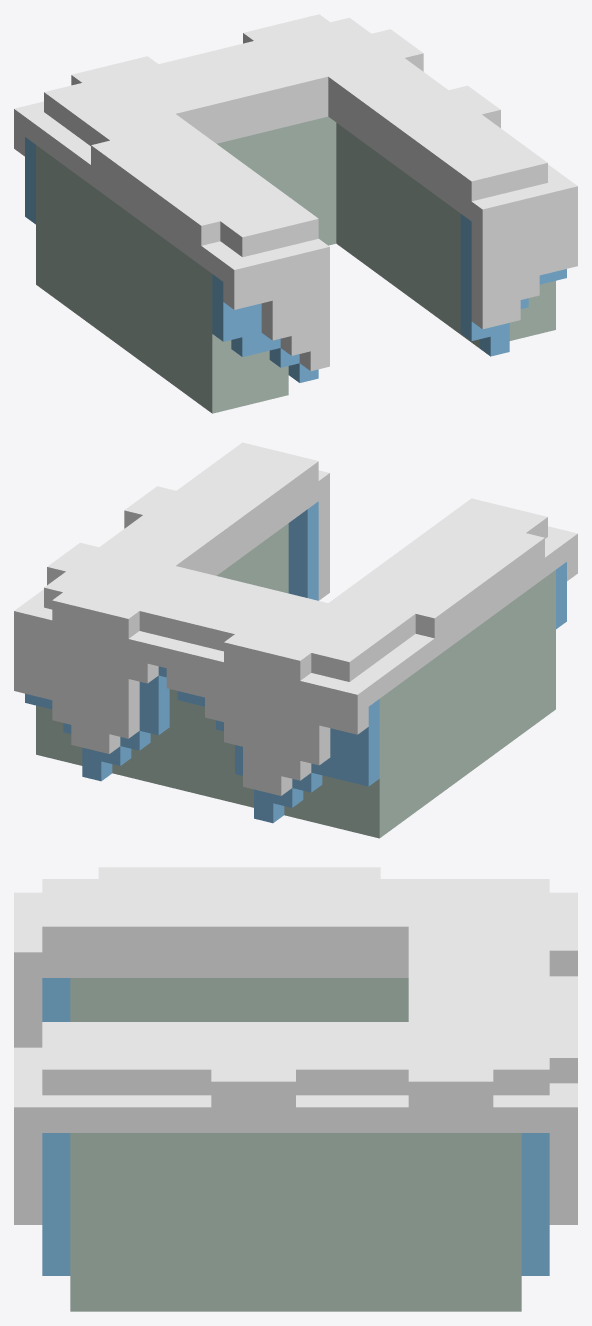
File: Floors-7.obj
3 views of the same model, one above another, from view 1: azimuth 30°, elevation 25°; view 2: azimuth 150°, elevation 25°; view 3: azimuth 270°, elevation 25° (orthographic). The views are drawn at different scales.
Bounding box in the file's own units: 1.8 × 0.9 × 2.
